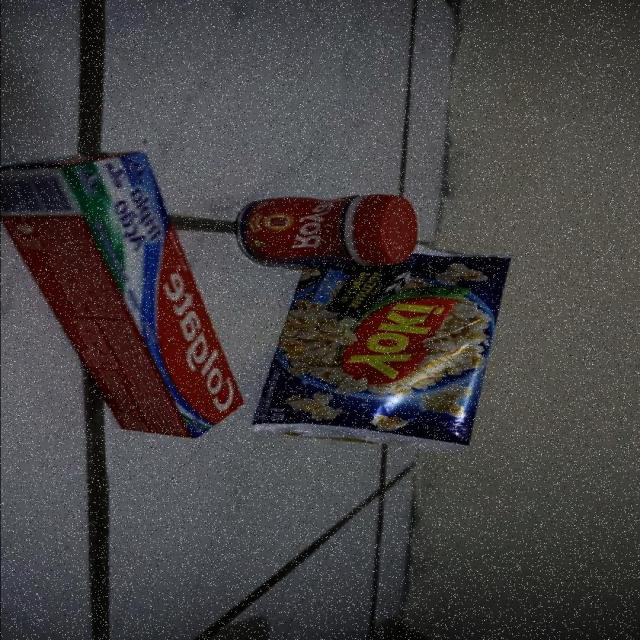Popcorn: (262, 272, 501, 454)
Toothpaste: (0, 142, 246, 445)
Yeast: (257, 195, 416, 265)
